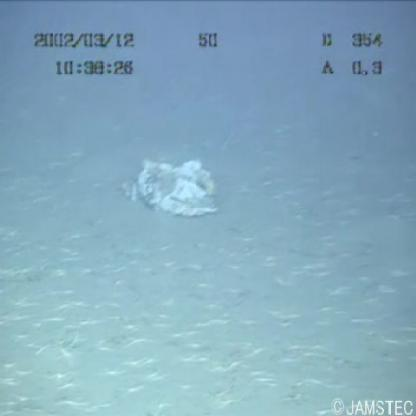Rác: (108, 152, 230, 218)
